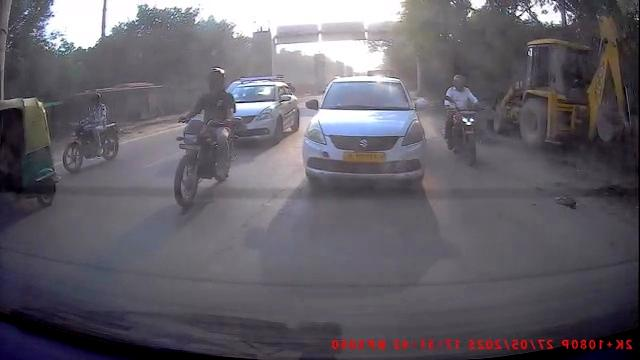motorcycle_with_helmet: (171, 66, 240, 208), (61, 89, 120, 174), (441, 73, 483, 167)
